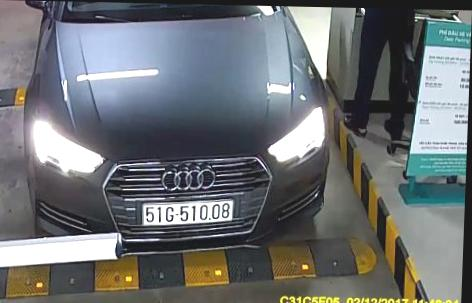License_Plate: (137, 198, 232, 226)
